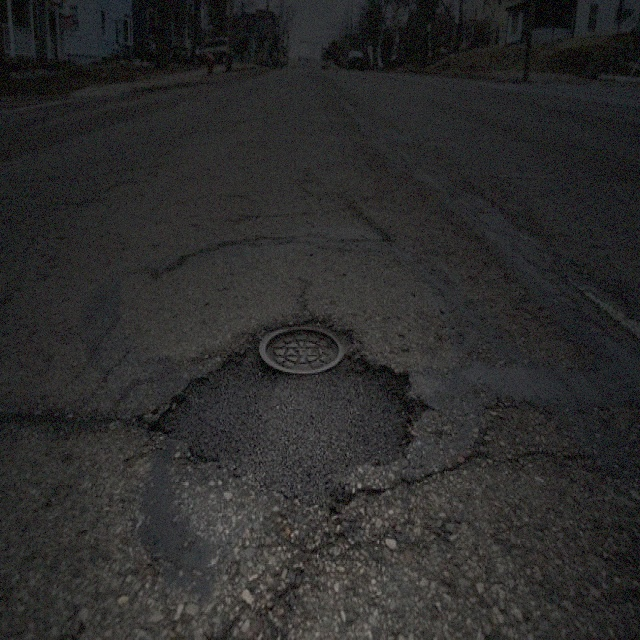pothole: (153, 340, 412, 498)
